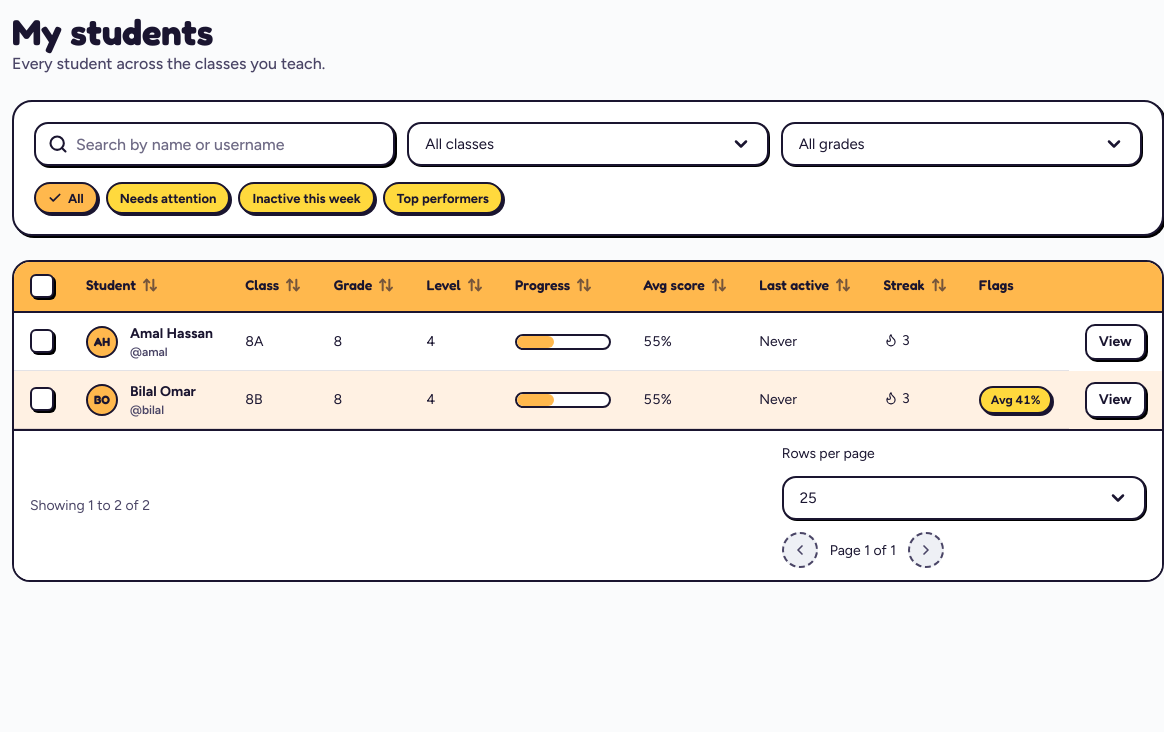
it: StudentsDirectoryPage (TC-07) › the Needs attention chip isolates flagged students through the server flag
The image size is (1164, 732).
Expected: the text "Amal Hassan" is shown, [130, 323, 213, 344]
Click the button "Needs attention" at {"x": 168, "y": 198}, box [108, 184, 228, 212]
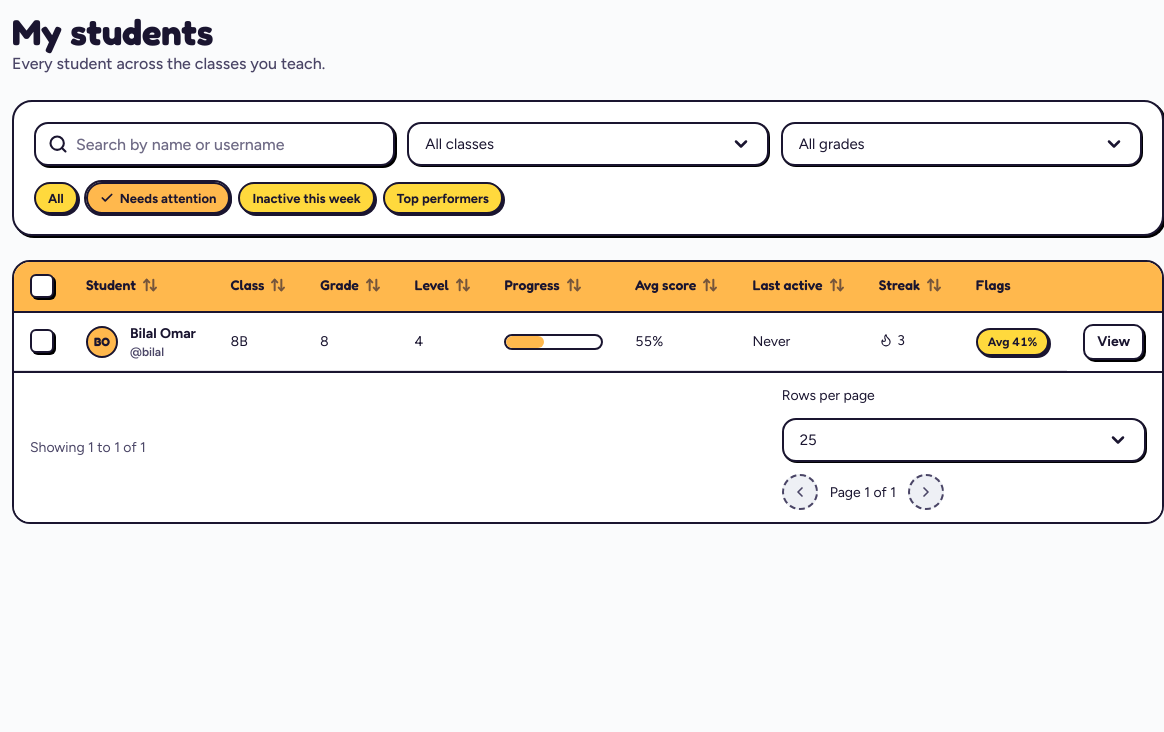
Expected: the text "Bilal Omar" is shown, [130, 323, 196, 344]
Result: the link "Amal Hassan" is gone
